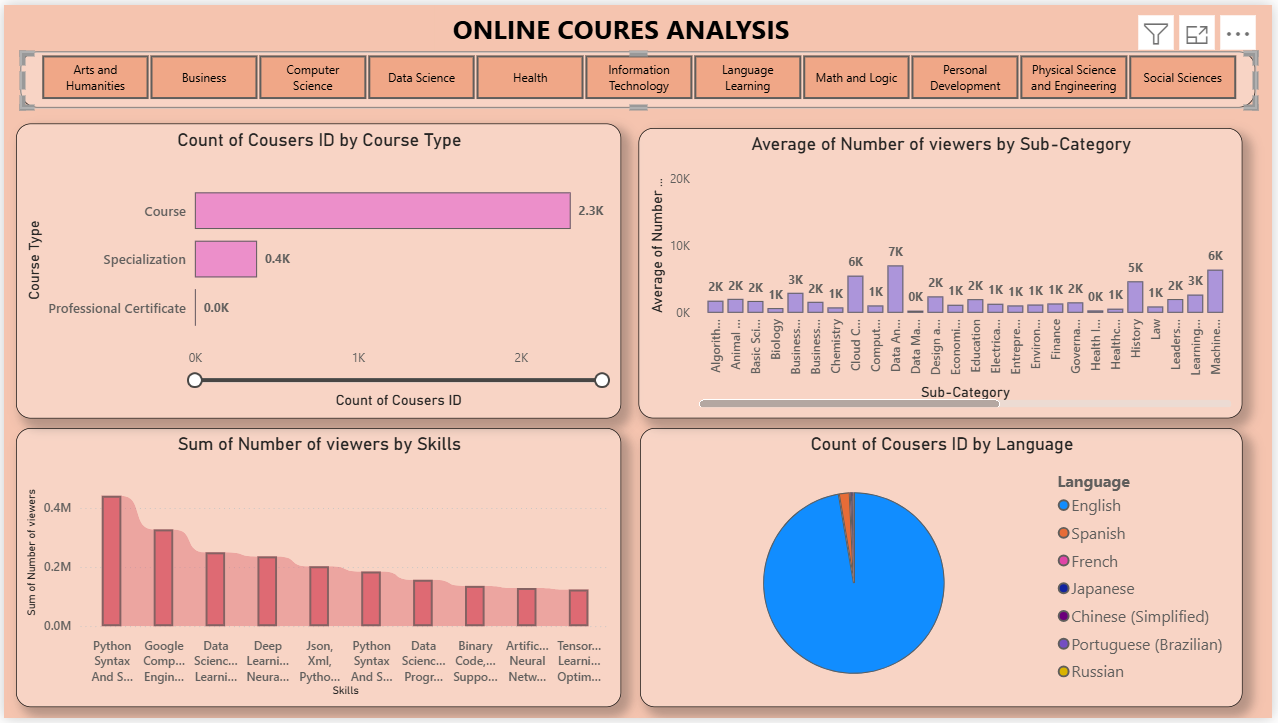

This screenshot's page, from the dashboard's own definition file:
{"tool":"powerbi","page":{"name":"Online Courses Analysis","canvas":[1280,720],"ordinal":0},"visuals":[{"type":"slicer","fields":{"Values":["Online_Courses.Category"]},"box":[17.2,47.3,1247.4,56.8],"z":0},{"type":"clusteredBarChart","fields":{"Category":["Online_Courses.Course Type"],"Y":["CountNonNull(Online_Courses.Cousers ID)"]},"box":[11.5,120.3,611.6,297.9],"z":1000},{"type":"clusteredColumnChart","fields":{"Category":["Online_Courses.Sub-Category","Online_Courses.Language"],"Y":["Avg(Online_Courses.Number of viewers)"]},"box":[640.3,124.6,610.2,293.6],"z":2000},{"type":"ribbonChart","fields":{"Category":["Online_Courses.Skills"],"Y":["Sum(Online_Courses.Number of viewers)"]},"box":[11.5,426.9,611.6,282.2],"z":3000},{"type":"pieChart","fields":{"Category":["Online_Courses.Language"],"Y":["CountNonNull(Online_Courses.Cousers ID)"]},"box":[641.7,426.9,608.8,282.2],"z":4000},{"type":"textbox","box":[435.2,0,377,46.6],"z":5001}]}

Visuals, with their boxes in screenshot pixels (x1, y1, x2, y2), scaled from the page's 1280x720 canvas onto the 1278x723 screenshot:
slicer - Online_Courses.Category: Rect(17, 47, 1263, 105)
clusteredBarChart - Online_Courses.Course Type x CountNonNull(Online_Courses.Cousers ID): Rect(11, 121, 622, 420)
clusteredColumnChart - Online_Courses.Sub-Category x Online_Courses.Language: Rect(639, 125, 1249, 420)
ribbonChart - Online_Courses.Skills x Sum(Online_Courses.Number of viewers): Rect(11, 429, 622, 712)
pieChart - Online_Courses.Language x CountNonNull(Online_Courses.Cousers ID): Rect(641, 429, 1249, 712)
textbox: Rect(435, 0, 811, 47)
